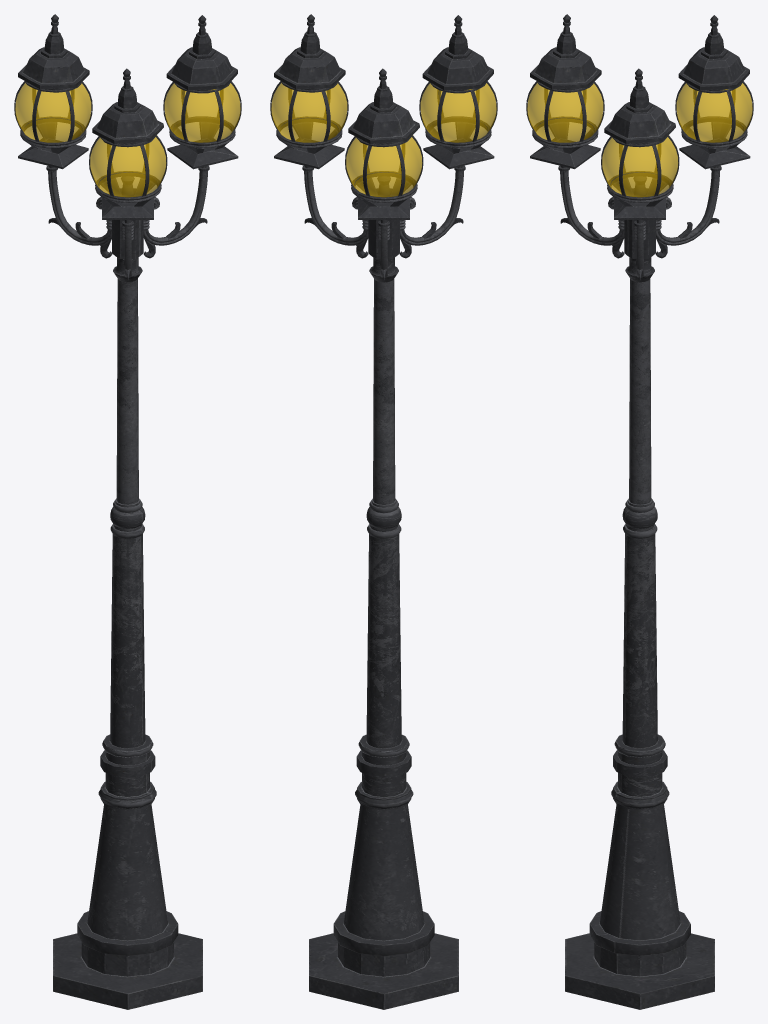
File: street_light.fbx
The picture shows the model from 3 angles, left to right: view 1: azimuth 30°, elevation 25°; view 2: azimuth 150°, elevation 25°; view 3: azimuth 270°, elevation 25°; orthographic projection.
Parts seen in each view (by area): view 1: street_light:street_light1, street_light:street_light:pSphere1 (×3), street_light:lamp_1, street_light:lamp_2, street_light:lamp_3; view 2: street_light:street_light1, street_light:street_light:pSphere1 (×3), street_light:lamp_3, street_light:lamp_1, street_light:lamp_2; view 3: street_light:street_light1, street_light:street_light:pSphere1 (×3), street_light:lamp_2, street_light:lamp_3, street_light:lamp_1.
Part boxes in pixels (left/top/right/bottom): street_light:street_light1: left=53, top=176, right=202, bottom=1009; street_light:street_light:pSphere1 (×3): left=15, top=83, right=240, bottom=197; street_light:lamp_1: left=143, top=15, right=241, bottom=258; street_light:lamp_2: left=14, top=14, right=112, bottom=258; street_light:lamp_3: left=89, top=68, right=167, bottom=280; street_light:street_light1: left=309, top=176, right=458, bottom=1009; street_light:street_light:pSphere1 (×3): left=271, top=83, right=496, bottom=197; street_light:lamp_3: left=399, top=15, right=497, bottom=258; street_light:lamp_1: left=270, top=14, right=368, bottom=258; street_light:lamp_2: left=345, top=68, right=423, bottom=280; street_light:street_light1: left=565, top=176, right=714, bottom=1009; street_light:street_light:pSphere1 (×3): left=527, top=83, right=752, bottom=197; street_light:lamp_2: left=655, top=15, right=753, bottom=258; street_light:lamp_3: left=526, top=14, right=624, bottom=258; street_light:lamp_1: left=601, top=68, right=679, bottom=280.
Size of the model in its own units: 4.52 by 22.27 by 4.88.
Materials: 2 (1 with a texture image).
